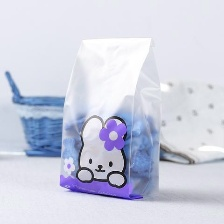snack: (52, 28, 169, 205)
